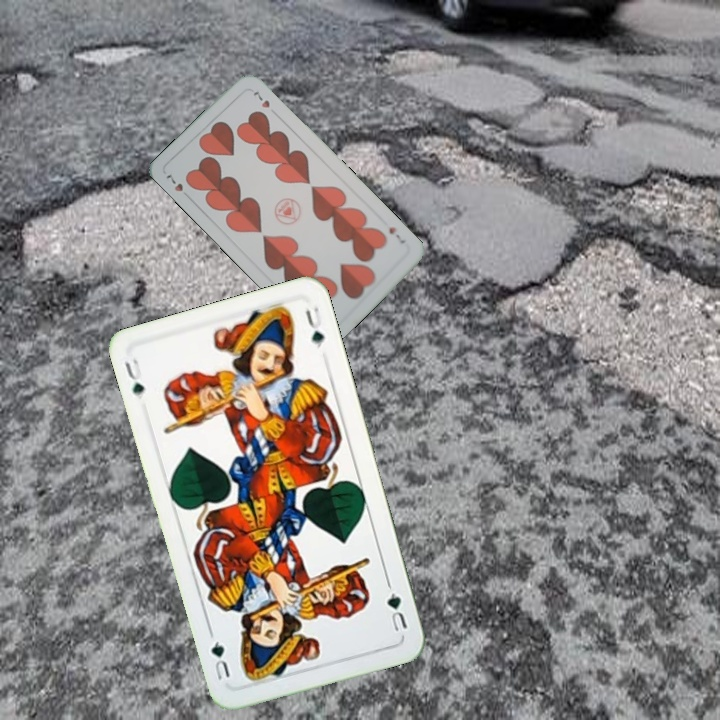GU: (382, 588, 410, 637), (121, 354, 147, 399)
H7: (162, 170, 193, 202), (385, 222, 408, 246)
